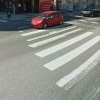crosswalk: (17, 25, 100, 91)
